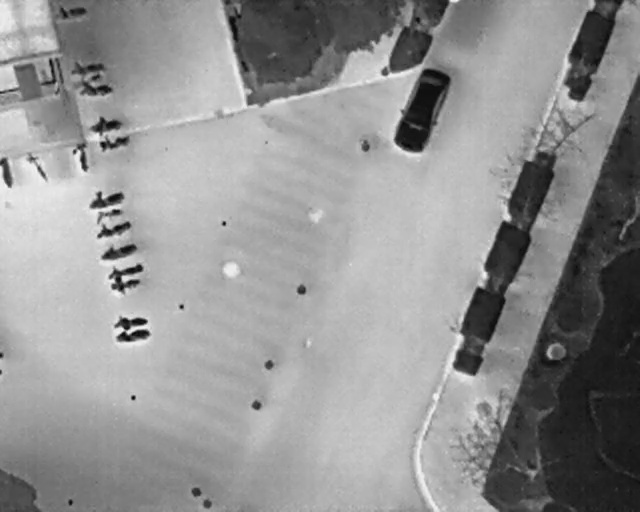Bicycle: (95, 237, 141, 266), (85, 183, 127, 214), (21, 147, 53, 186), (103, 256, 146, 283), (92, 215, 134, 241), (95, 130, 134, 155), (87, 112, 124, 138), (108, 271, 144, 297), (110, 310, 150, 333), (112, 325, 153, 346), (67, 56, 106, 78), (53, 1, 88, 22), (70, 140, 91, 175), (91, 204, 125, 225), (71, 68, 103, 89), (78, 82, 113, 97), (0, 155, 15, 190)
Car: (386, 61, 456, 160)
